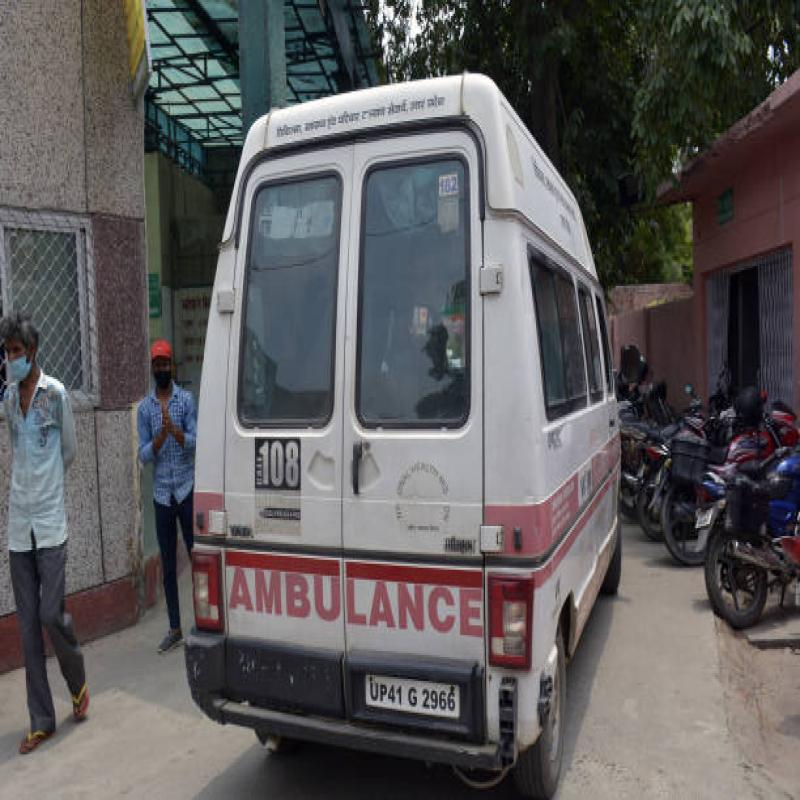ambulance: (162, 61, 641, 800)
